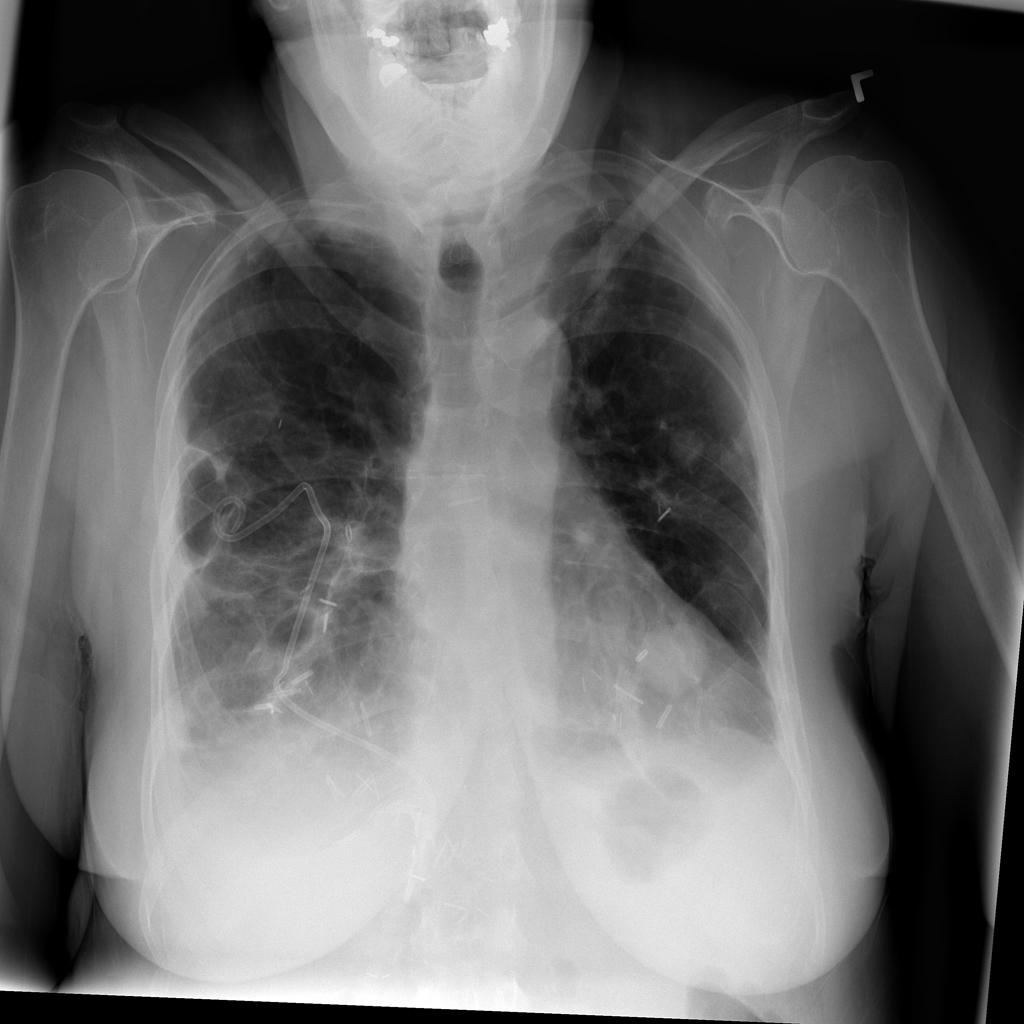nodule: (622, 608, 727, 714), (653, 408, 720, 484)
